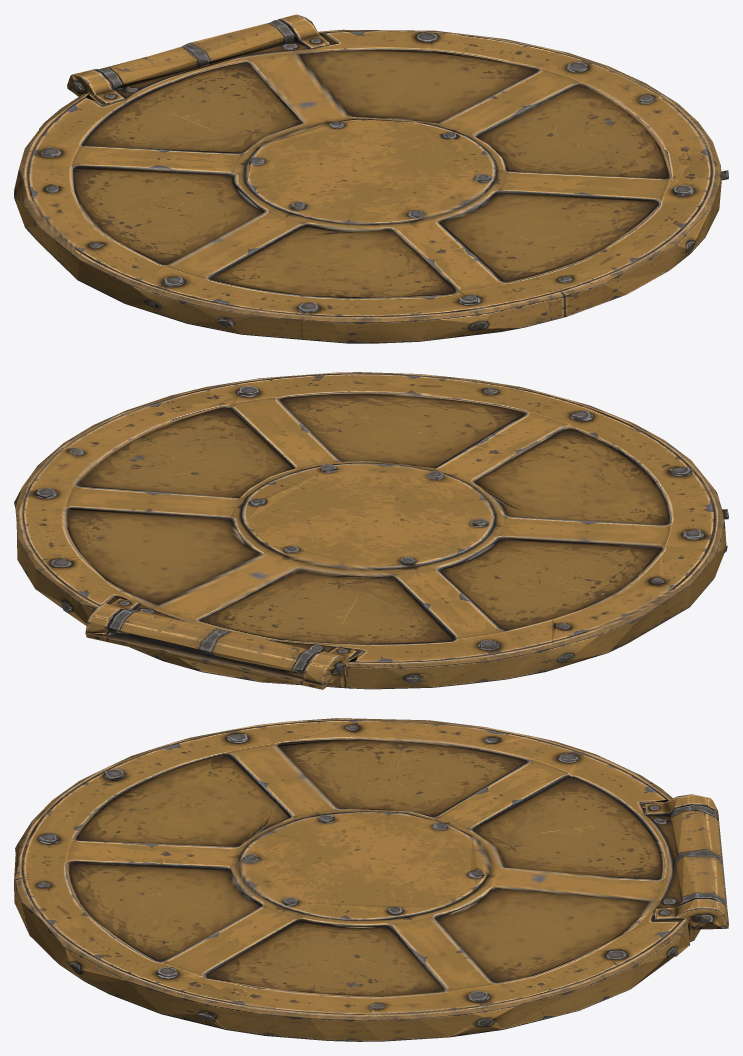
The model's file is lyuk-tryuma-kryshka.glb.
3 renders of one model, top to bottom at view 1: azimuth 30°, elevation 25°; view 2: azimuth 150°, elevation 25°; view 3: azimuth 270°, elevation 25°, orthographic.
Visible parts, largest first — view 1: lyuk-tryuma-kryshka; view 2: lyuk-tryuma-kryshka; view 3: lyuk-tryuma-kryshka.
Part boxes in pixels (x1,y1,x2,y2): lyuk-tryuma-kryshka: (14, 14, 728, 343); lyuk-tryuma-kryshka: (14, 372, 728, 689); lyuk-tryuma-kryshka: (14, 718, 728, 1041).
Size of the model in its own units: 2.2 by 0.12 by 2.2.
1 material, 1 textured.
